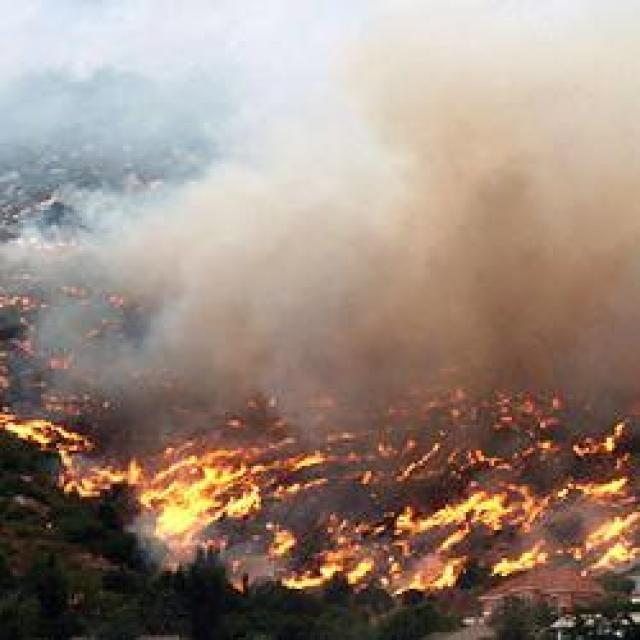Fire: (0, 381, 640, 594)
Smoke: (0, 0, 640, 379)
